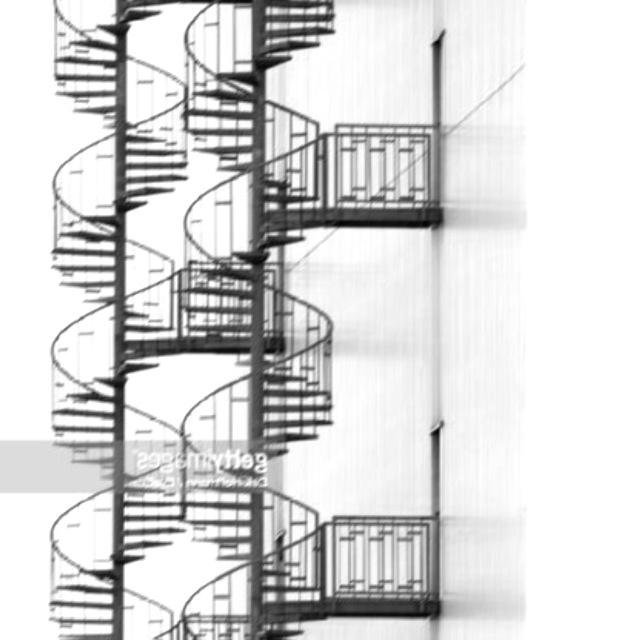stair: (23, 110, 448, 350), (39, 486, 176, 640), (188, 491, 310, 638), (218, 366, 333, 463), (49, 382, 140, 469)
